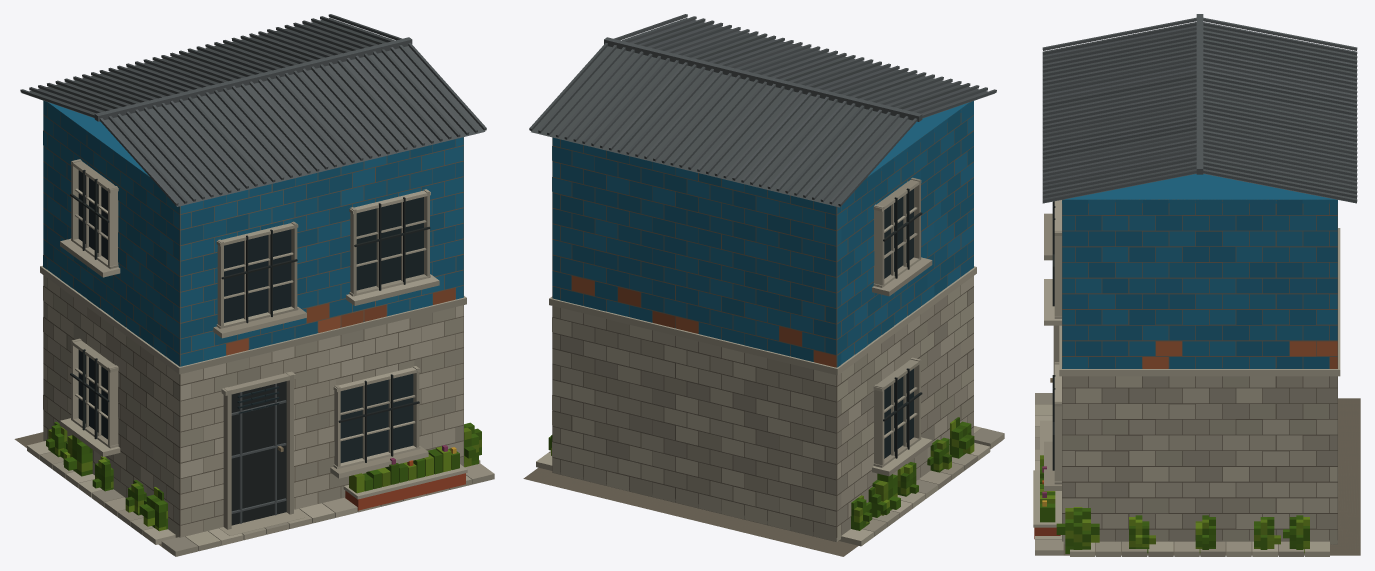
The model's file is SM_Mapa_076.fbx.
3 views of the same model, side by side, from view 1: azimuth 30°, elevation 25°; view 2: azimuth 150°, elevation 25°; view 3: azimuth 270°, elevation 25° (orthographic).
Parts seen in each view (by area): view 1: SM_Mapa_076; view 2: SM_Mapa_076; view 3: SM_Mapa_076.
Boxes of the visible parts, <box> form: SM_Mapa_076: <box>14,14,494,556</box>; SM_Mapa_076: <box>523,14,1004,556</box>; SM_Mapa_076: <box>1033,14,1360,556</box>.
Bounding box in the file's own units: 8 × 6.84 × 8.89.
